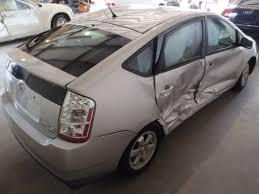doorouter-dent: (153, 67, 202, 123), (202, 50, 238, 95)
